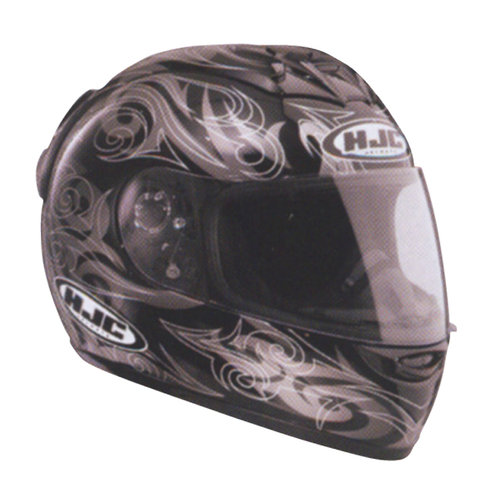helmet: (52, 44, 445, 441)
